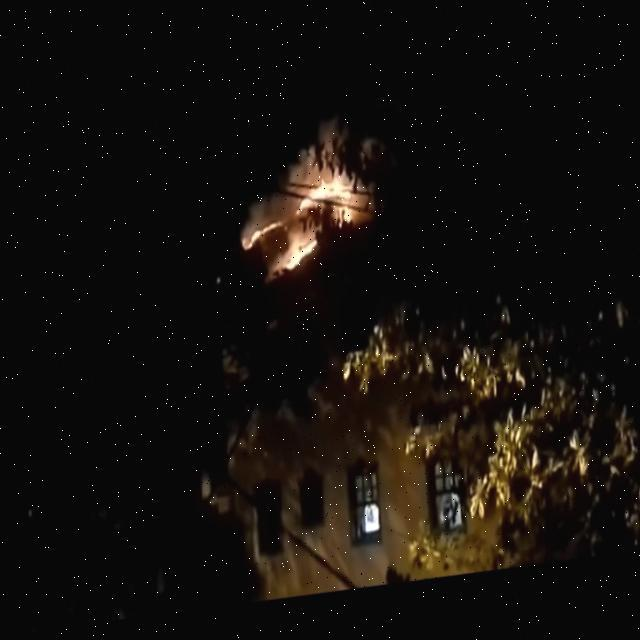Fire: (296, 188, 351, 240), (275, 248, 314, 280), (238, 225, 279, 254)
